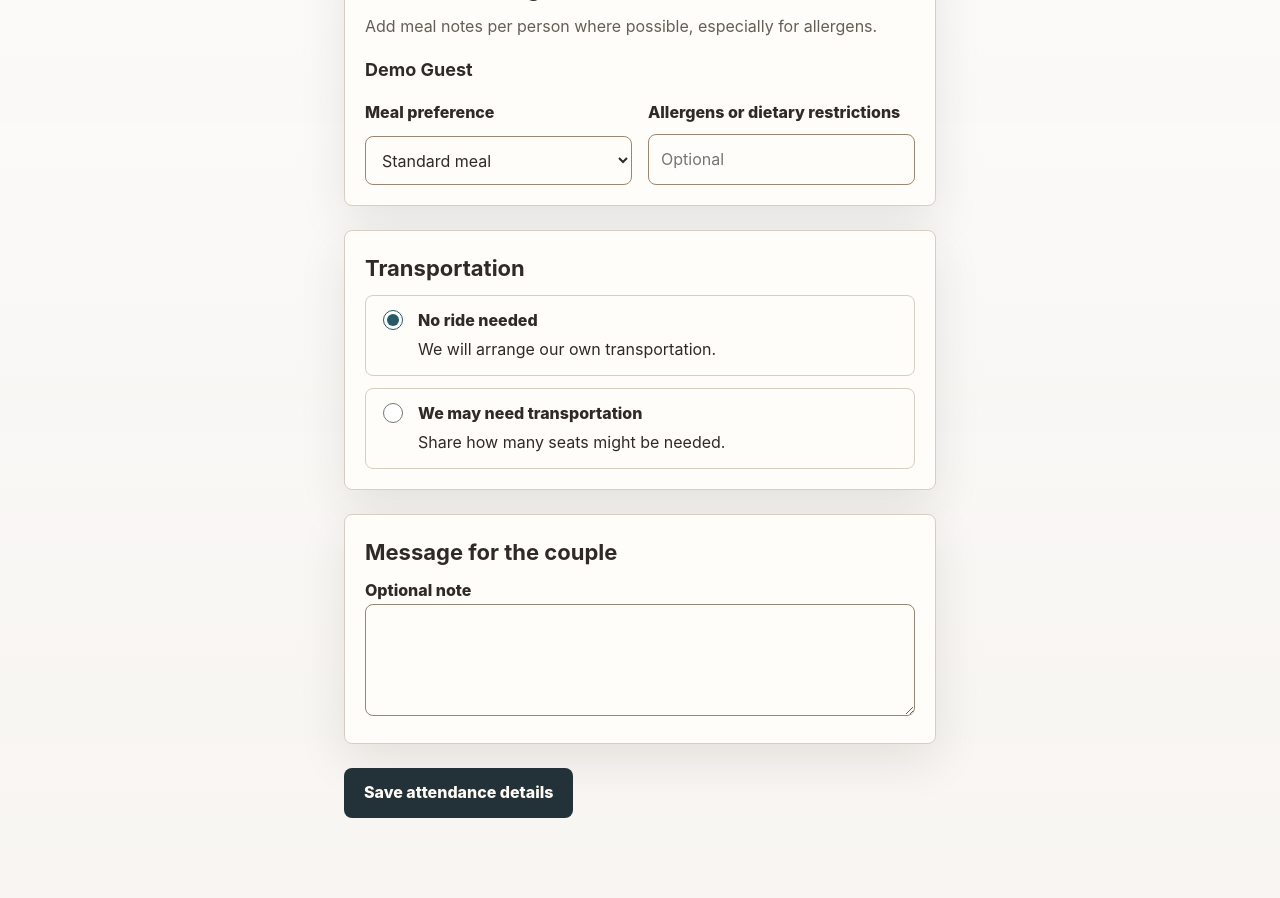
Test: guest routing and RSVP flows › moves a guest who completes the questionnaire to the homepage
(page scrolled)
Click the button "Save attendance details".
click(459, 793)  # box 344,768 -> 573,818
(page scrolled)
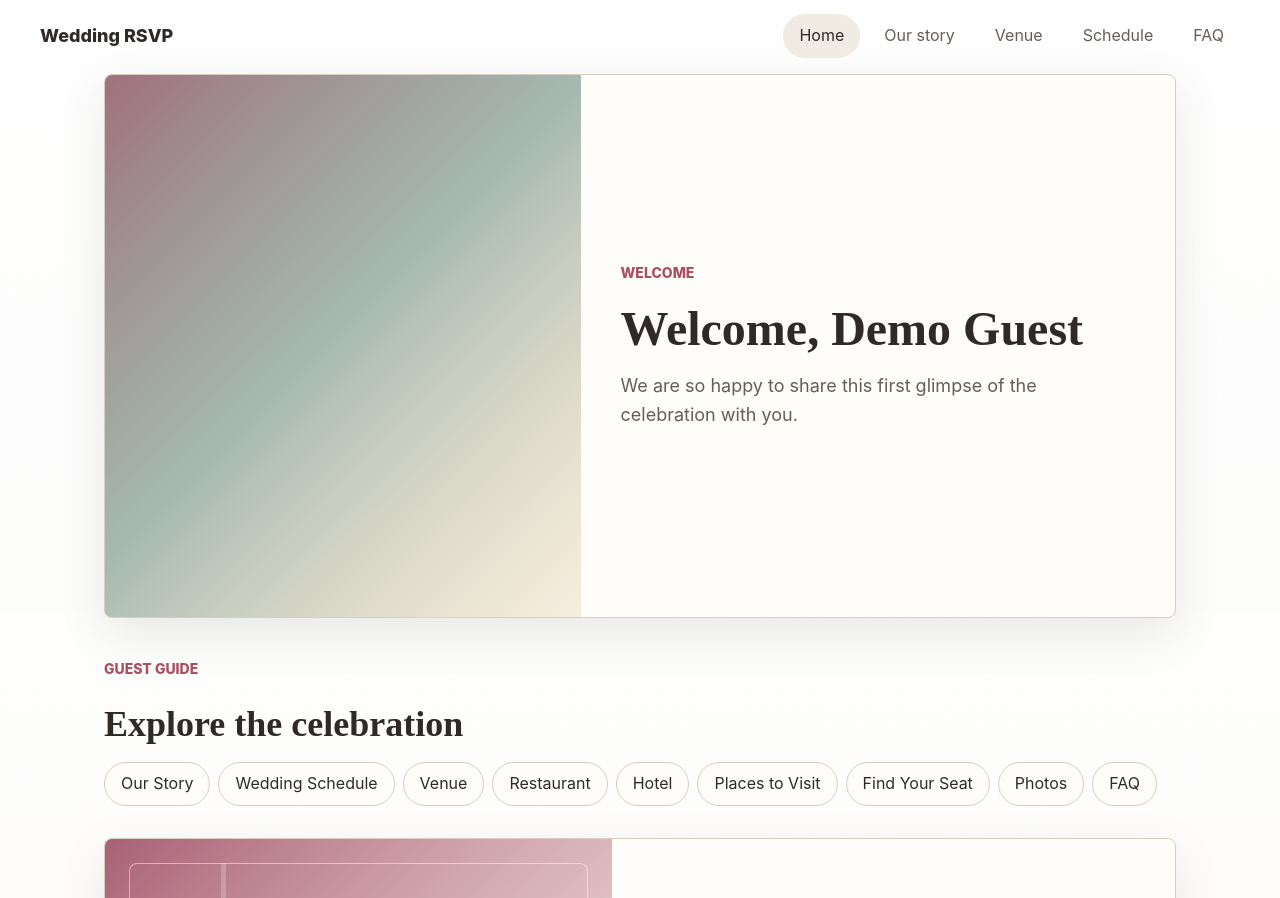
Now the heading "Welcome, Demo Guest" is shown, box 620,301 -> 1135,356
